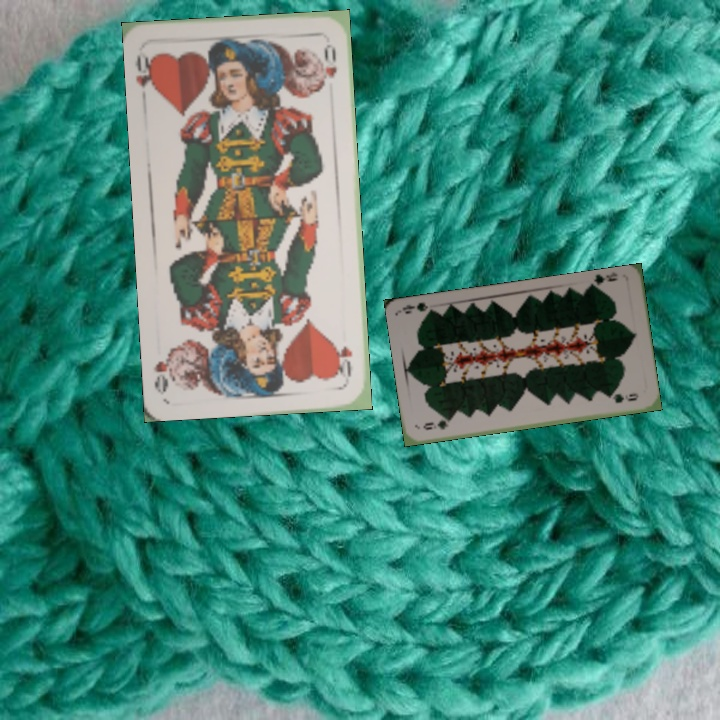G9: (587, 270, 620, 292), (419, 415, 454, 432)
HO: (131, 46, 159, 96), (333, 341, 355, 379)
